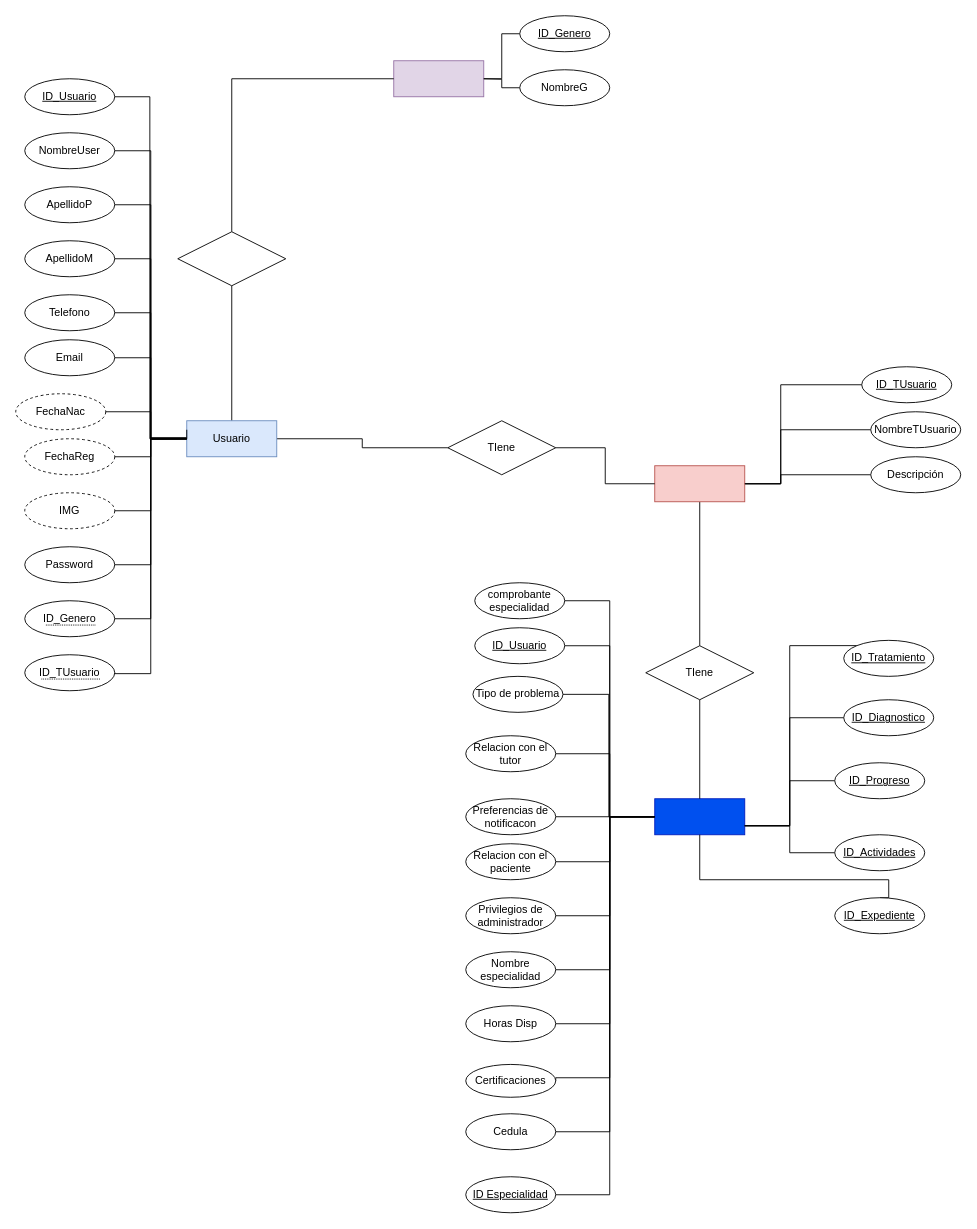
The diagram is 977 pixels wide and 1229 high, and some of its shapes have lost their labels. The box of each missing label's shape, as (x1, y1, x2, y2) in pixels:
Expediente: (654, 798, 745, 835)
Genero: (393, 60, 484, 97)
tienen: (177, 231, 286, 286)
TipoUsuario: (654, 465, 745, 502)
